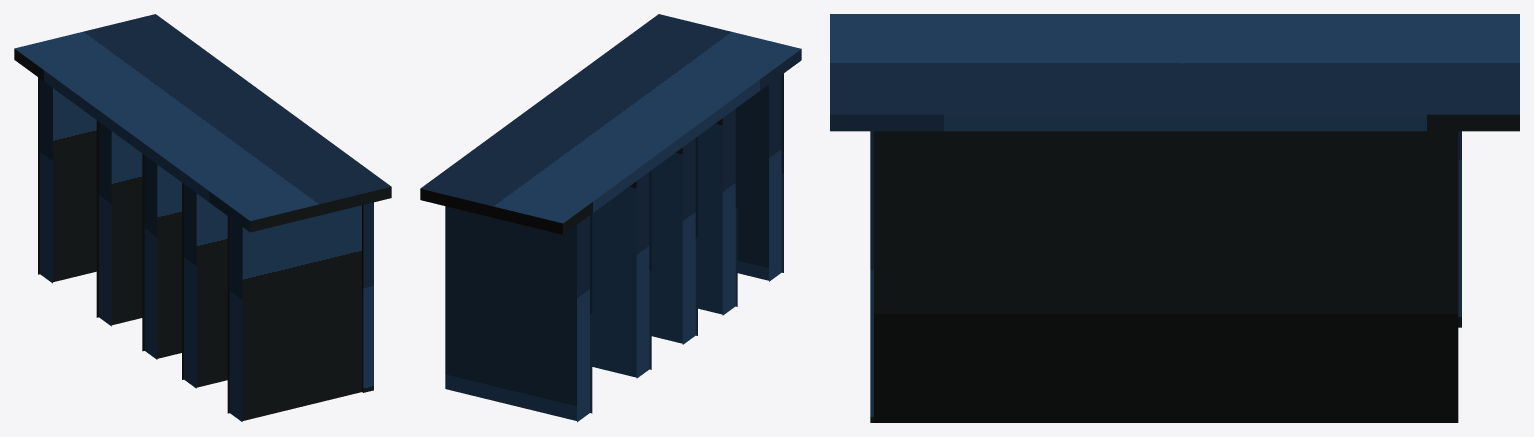
3 renders of one model, left to right at view 1: azimuth 30°, elevation 25°; view 2: azimuth 150°, elevation 25°; view 3: azimuth 270°, elevation 25°, orthographic. The views are drawn at different scales.
Bounding box in the file's own units: 0.6398 × 0.92 × 1.85.
